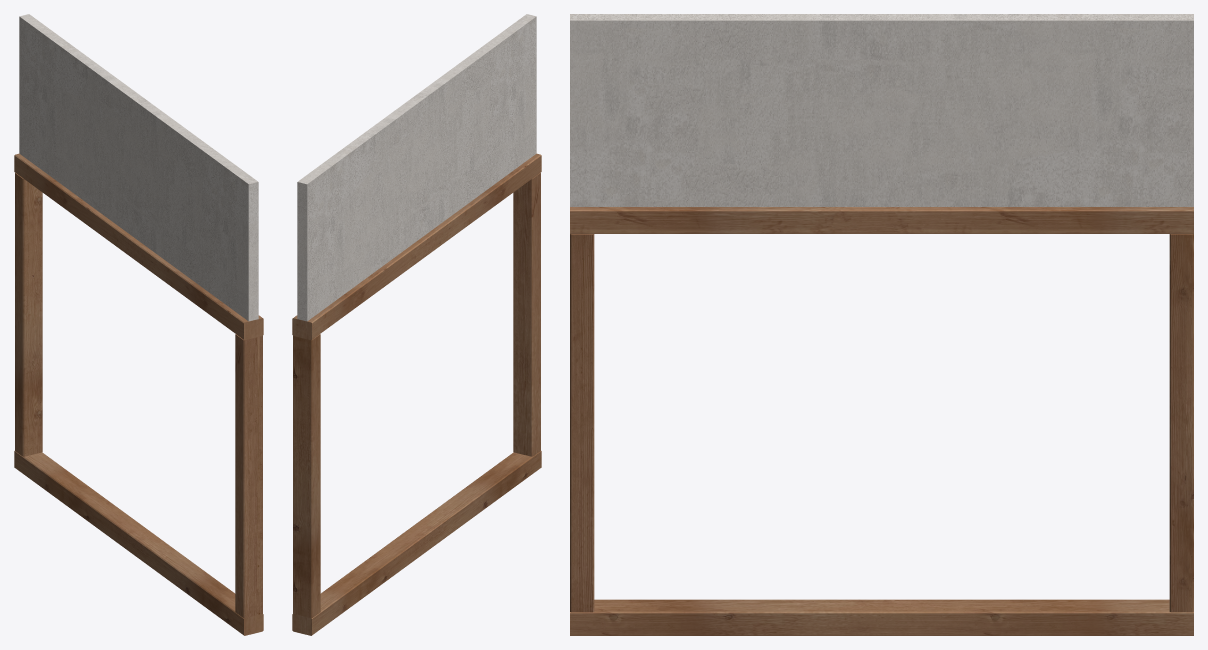
Rendered from SM_JSH_WallC.fbx.
3 renders of one model, left to right at view 1: azimuth 30°, elevation 25°; view 2: azimuth 150°, elevation 25°; view 3: azimuth 270°, elevation 25°, orthographic. The views are drawn at different scales.
Visible parts, largest first — view 1: SM_JSH_WallC; view 2: SM_JSH_WallC; view 3: SM_JSH_WallC.
Boxes of the visible parts, x1,y1,x2,y2 form: SM_JSH_WallC: (14, 14, 263, 635); SM_JSH_WallC: (292, 14, 541, 635); SM_JSH_WallC: (570, 14, 1193, 635).
Bounding box in the file's own units: 11.78 × 238 × 257.
1 material, 1 textured.
